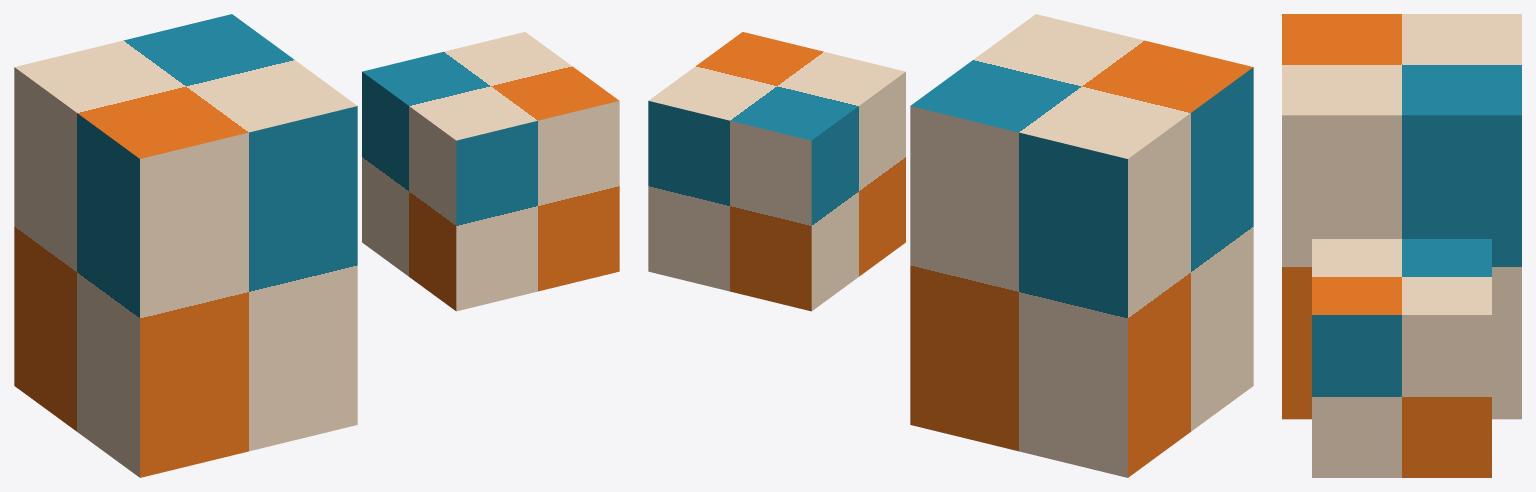
The model's file is SharedBox.glb.
The picture shows the model from 3 angles, left to right: view 1: azimuth 30°, elevation 25°; view 2: azimuth 150°, elevation 25°; view 3: azimuth 270°, elevation 25°; orthographic projection. The views are drawn at different scales.
Visible parts, largest first — view 1: TallBox, MirroredBox; view 2: TallBox, MirroredBox; view 3: TallBox, MirroredBox.
Part boxes in pixels (<box>): TallBox: <box>14,14,357,477</box>; MirroredBox: <box>362,32,619,311</box>; TallBox: <box>910,14,1253,477</box>; MirroredBox: <box>648,32,905,311</box>; TallBox: <box>1282,14,1521,419</box>; MirroredBox: <box>1312,239,1491,477</box>.
Size of the model in its own units: 2.27 by 1.4 by 1.
Materials: 1 (1 with a texture image).
